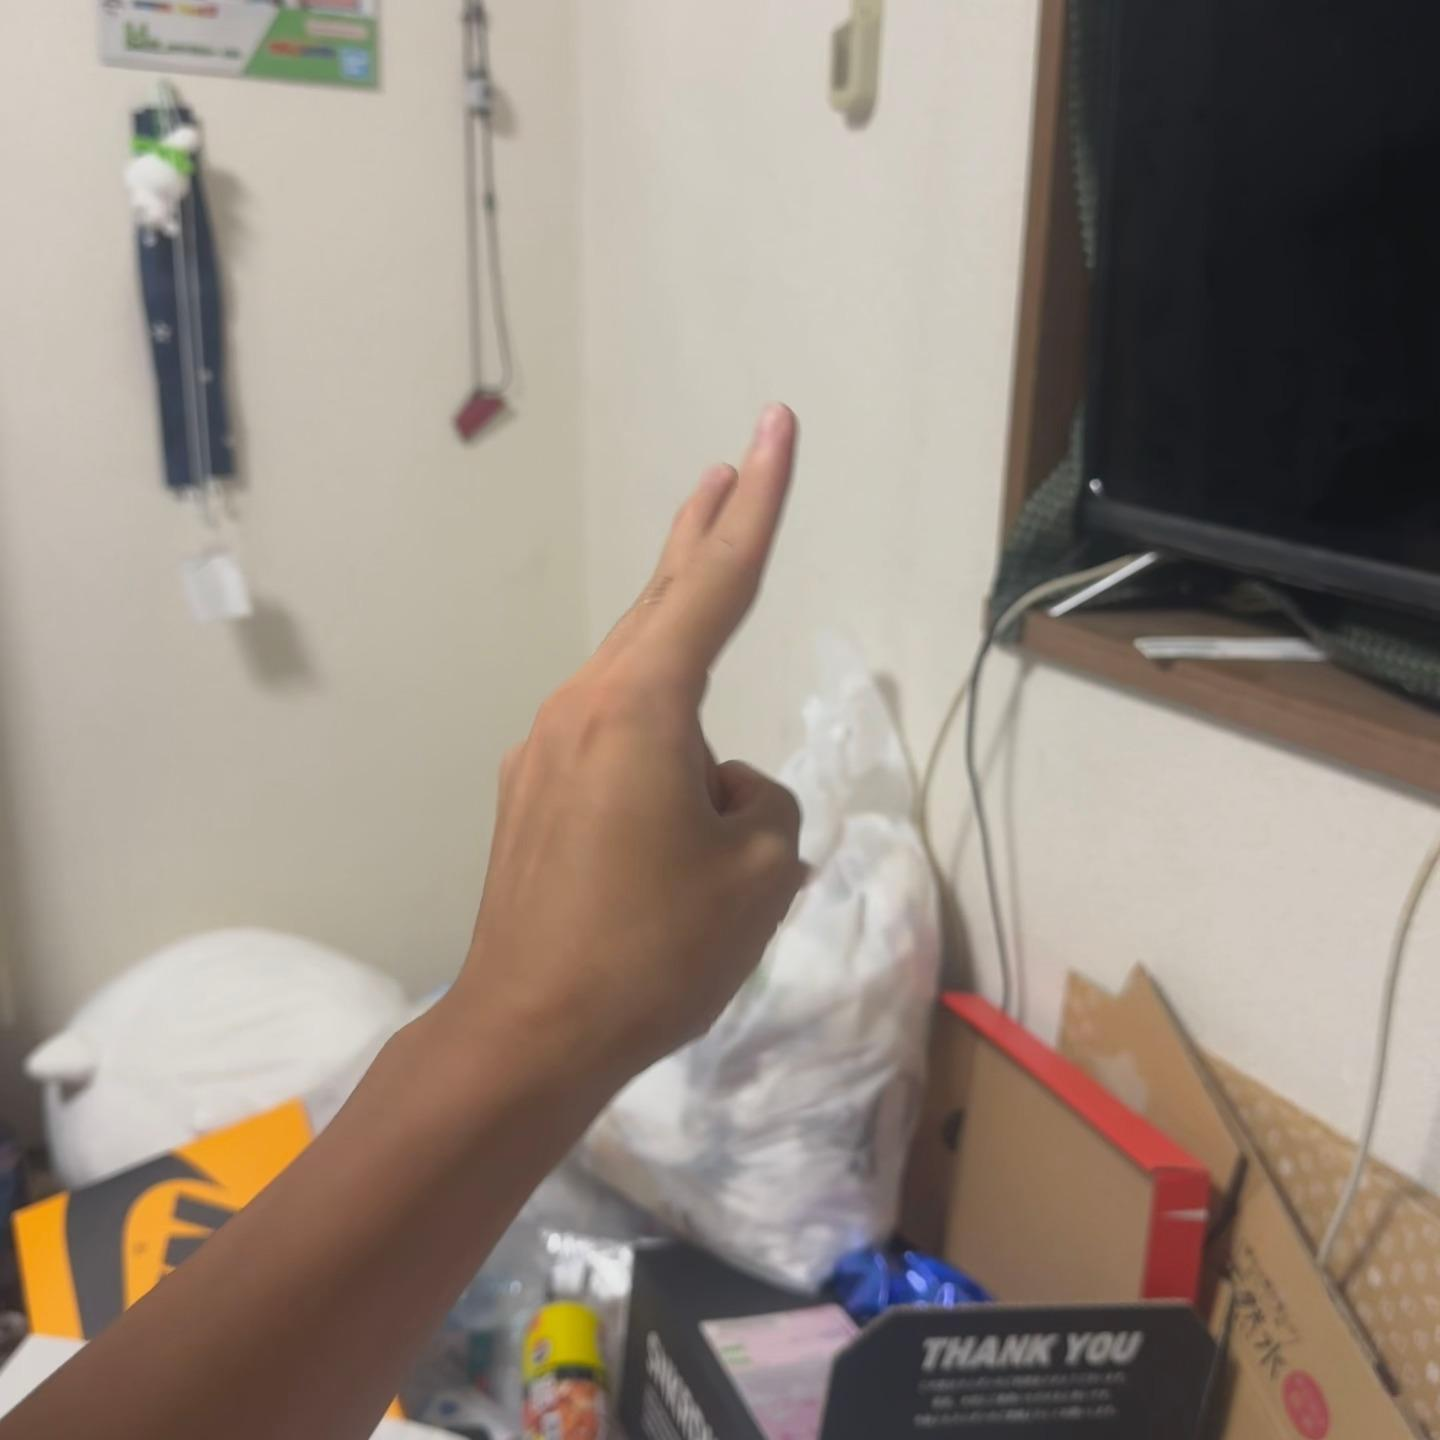without_gloves: (390, 262, 994, 1216)
